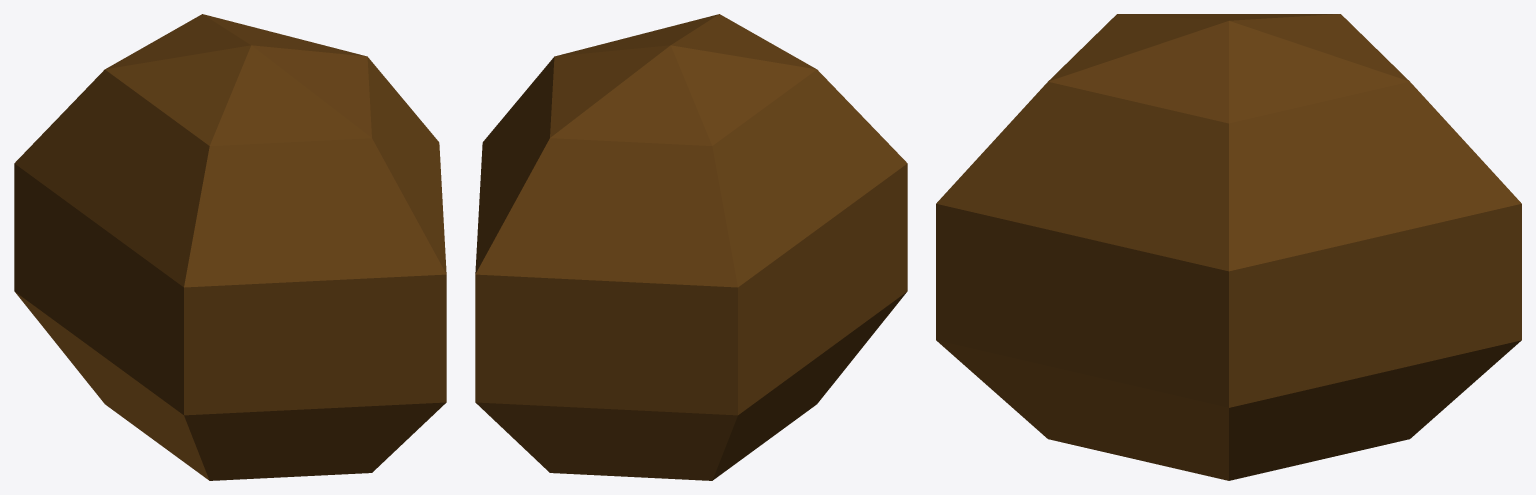
Rendered from floor1.fbx.
3 views of the same model, side by side, from view 1: azimuth 30°, elevation 25°; view 2: azimuth 150°, elevation 25°; view 3: azimuth 270°, elevation 25° (orthographic). The views are drawn at different scales.
Visible parts, largest first — view 1: pSphere1; view 2: pSphere1; view 3: pSphere1.
Boxes of the visible parts, x1=… form: pSphere1: x1=14, y1=14, x2=446, y2=480; pSphere1: x1=475, y1=14, x2=907, y2=480; pSphere1: x1=936, y1=14, x2=1521, y2=480.
Size of what is drawn, in the model's own units: 5.36 by 5.63 by 7.48.
